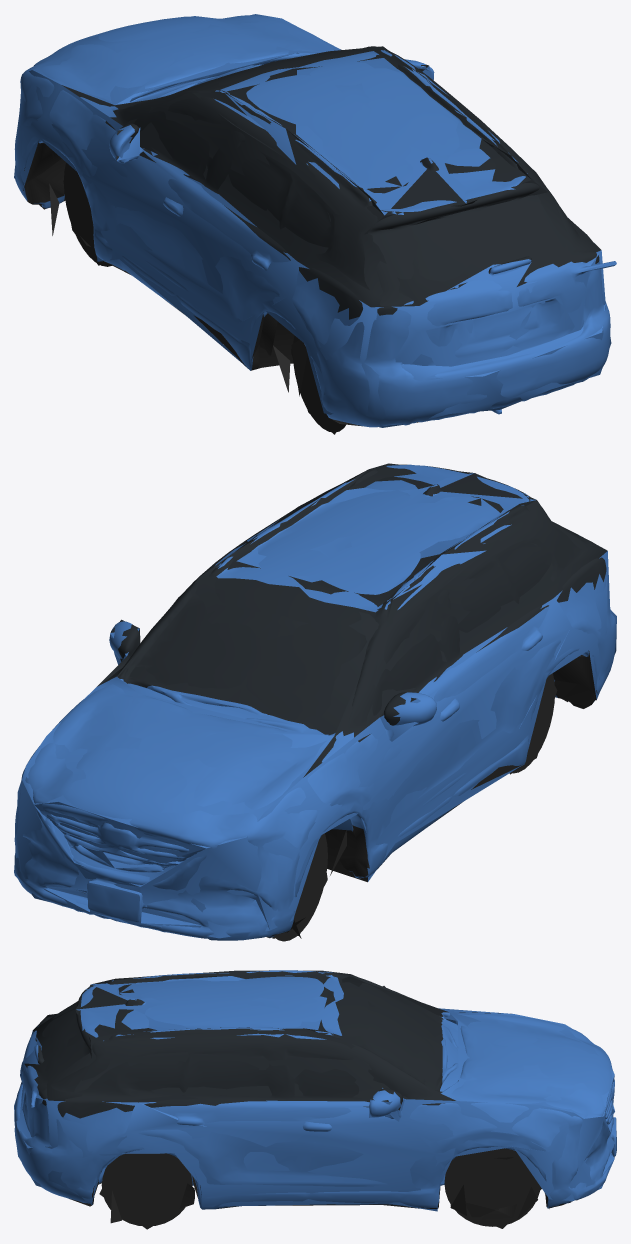
File: mazda-cx-9.glb
The picture shows the model from 3 angles, top to bottom: view 1: azimuth 30°, elevation 25°; view 2: azimuth 150°, elevation 25°; view 3: azimuth 270°, elevation 25°; orthographic projection. The views are drawn at different scales.
Visible parts, largest first — view 1: body, far; view 2: body, far; view 3: body, far.
Part boxes in pixels (x1,y1,x2,y2): body: (14, 15, 616, 432); far: (14, 14, 611, 434); body: (14, 464, 615, 941); far: (15, 463, 616, 938); body: (14, 970, 616, 1226); far: (14, 970, 614, 1229).
Bounding box in the file's own units: 2.4 × 1.83 × 5.14.
